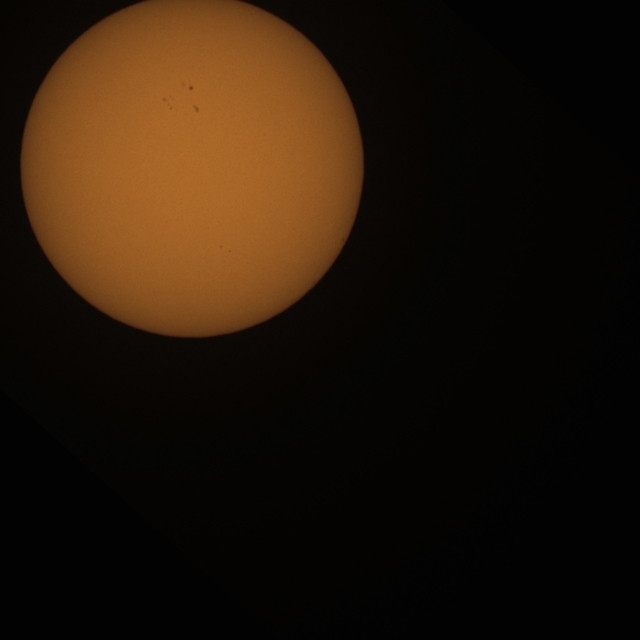sunspot: (162, 94, 176, 111), (219, 245, 232, 254), (182, 82, 194, 91), (191, 104, 200, 114), (227, 249, 232, 254), (219, 244, 223, 250)
